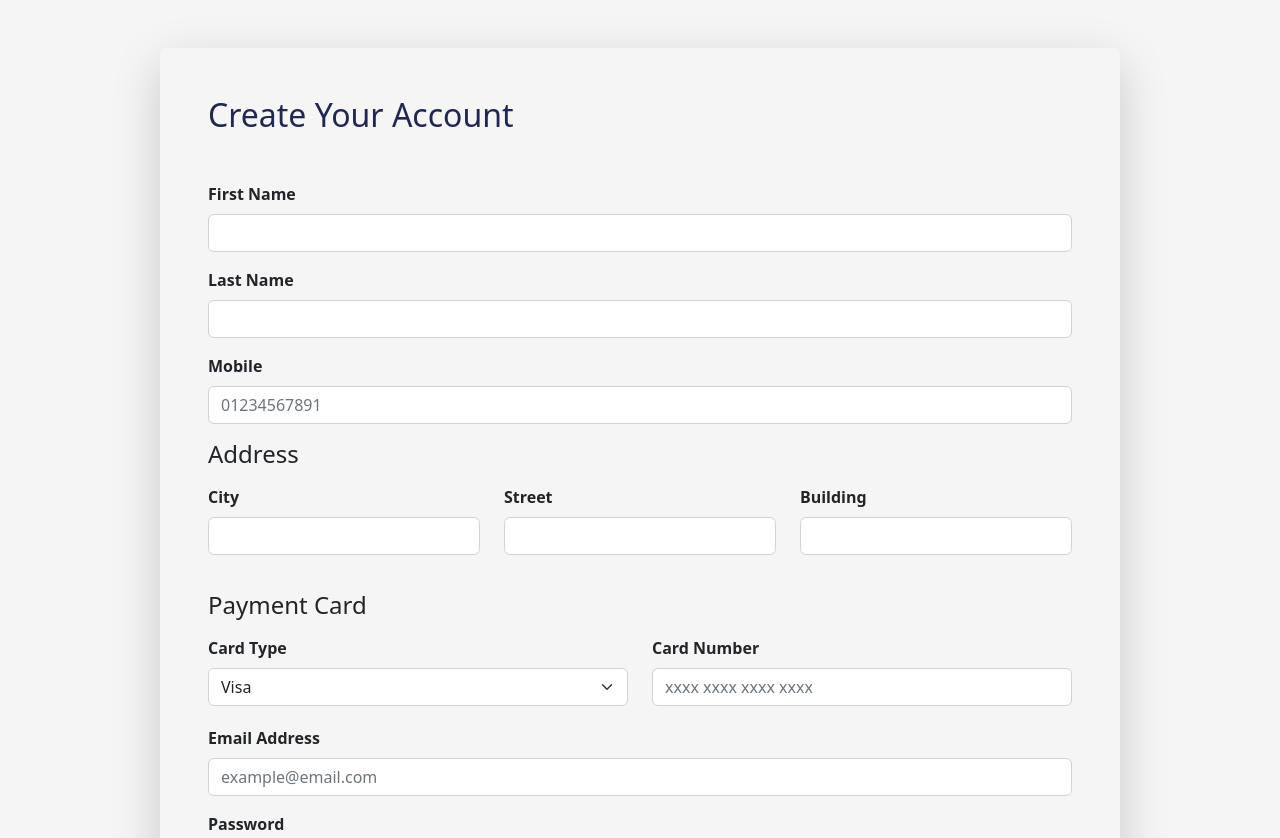
Test: should be a valid first name
Type "ma ha" into the field labelled "First Name" at (640, 233), box [208,214,1072,252]
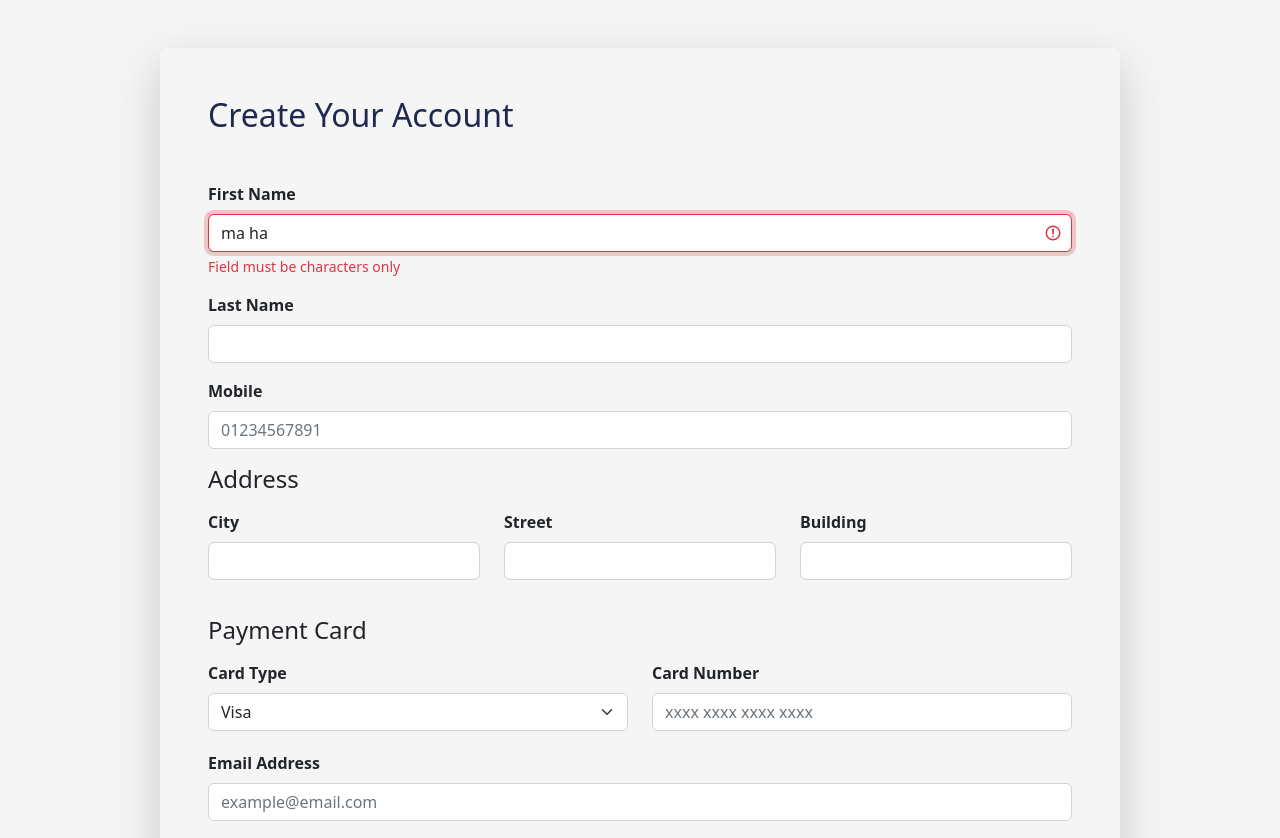
Expected: the text "Field must be characters only" is shown, [208,257,400,276]
